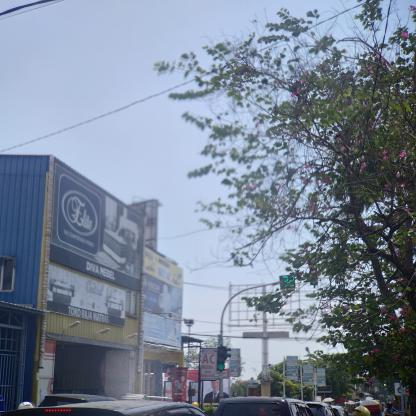green: (216, 346, 226, 374)
